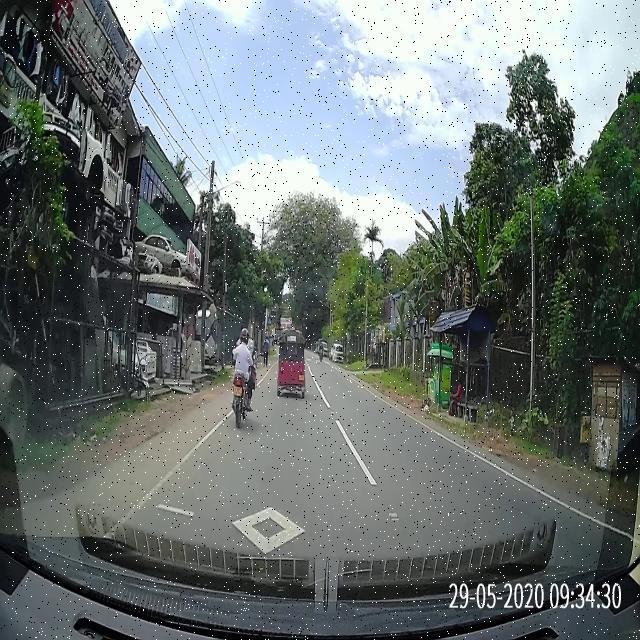diamond: (100, 483, 393, 563)
